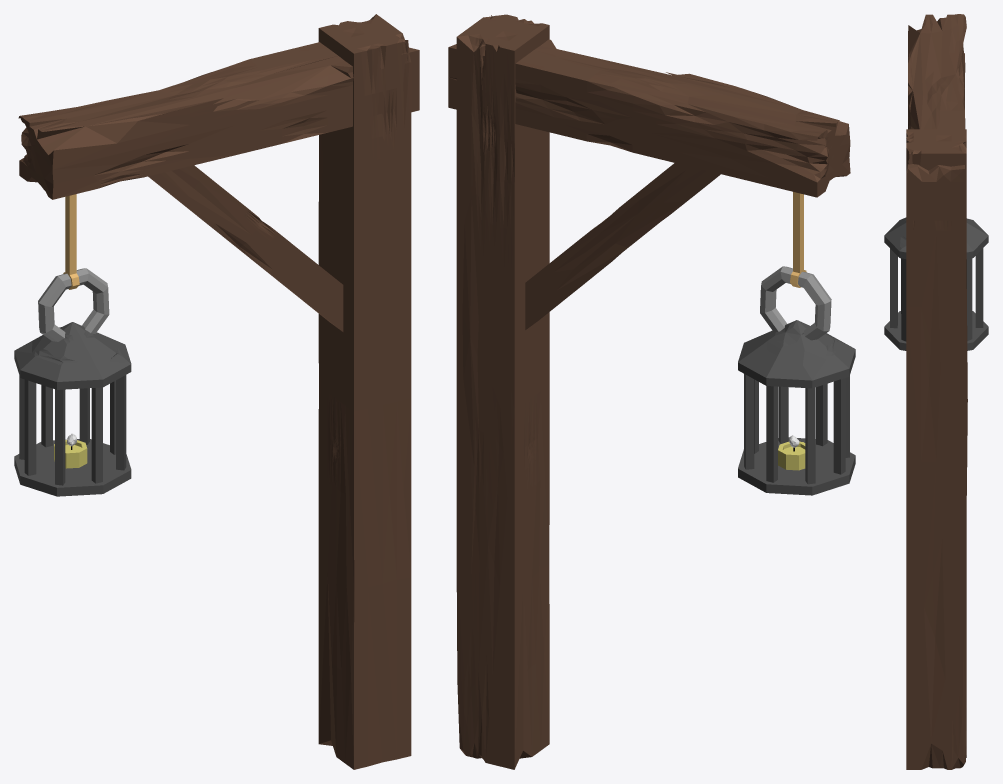
File: Lantern stand.fbx
3 views of the same model, side by side, from view 1: azimuth 30°, elevation 25°; view 2: azimuth 150°, elevation 25°; view 3: azimuth 270°, elevation 25° (orthographic). The views are drawn at different scales.
Visible parts, largest first — view 1: Stand, Lantern, Ring, Touw; view 2: Stand, Lantern, Ring, Touw, Kaars; view 3: Stand, Lantern.
Part boxes in pixels (x1,y1,x2,y2): Stand: [18, 14, 419, 769]; Lantern: [14, 322, 131, 496]; Ring: [38, 268, 109, 341]; Touw: [63, 194, 79, 289]; Stand: [448, 14, 850, 769]; Lantern: [738, 320, 855, 495]; Ring: [760, 266, 831, 340]; Touw: [790, 192, 806, 287]; Kaars: [778, 441, 805, 470]; Stand: [906, 14, 967, 769]; Lantern: [884, 217, 988, 350].
Bounding box in the file's own units: 323 × 576 × 88.54.
